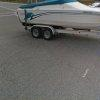Boat: (13, 1, 100, 40)
